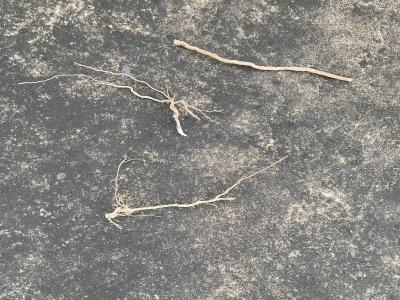Root: (18, 63, 218, 137), (105, 155, 287, 228), (174, 40, 353, 82)
